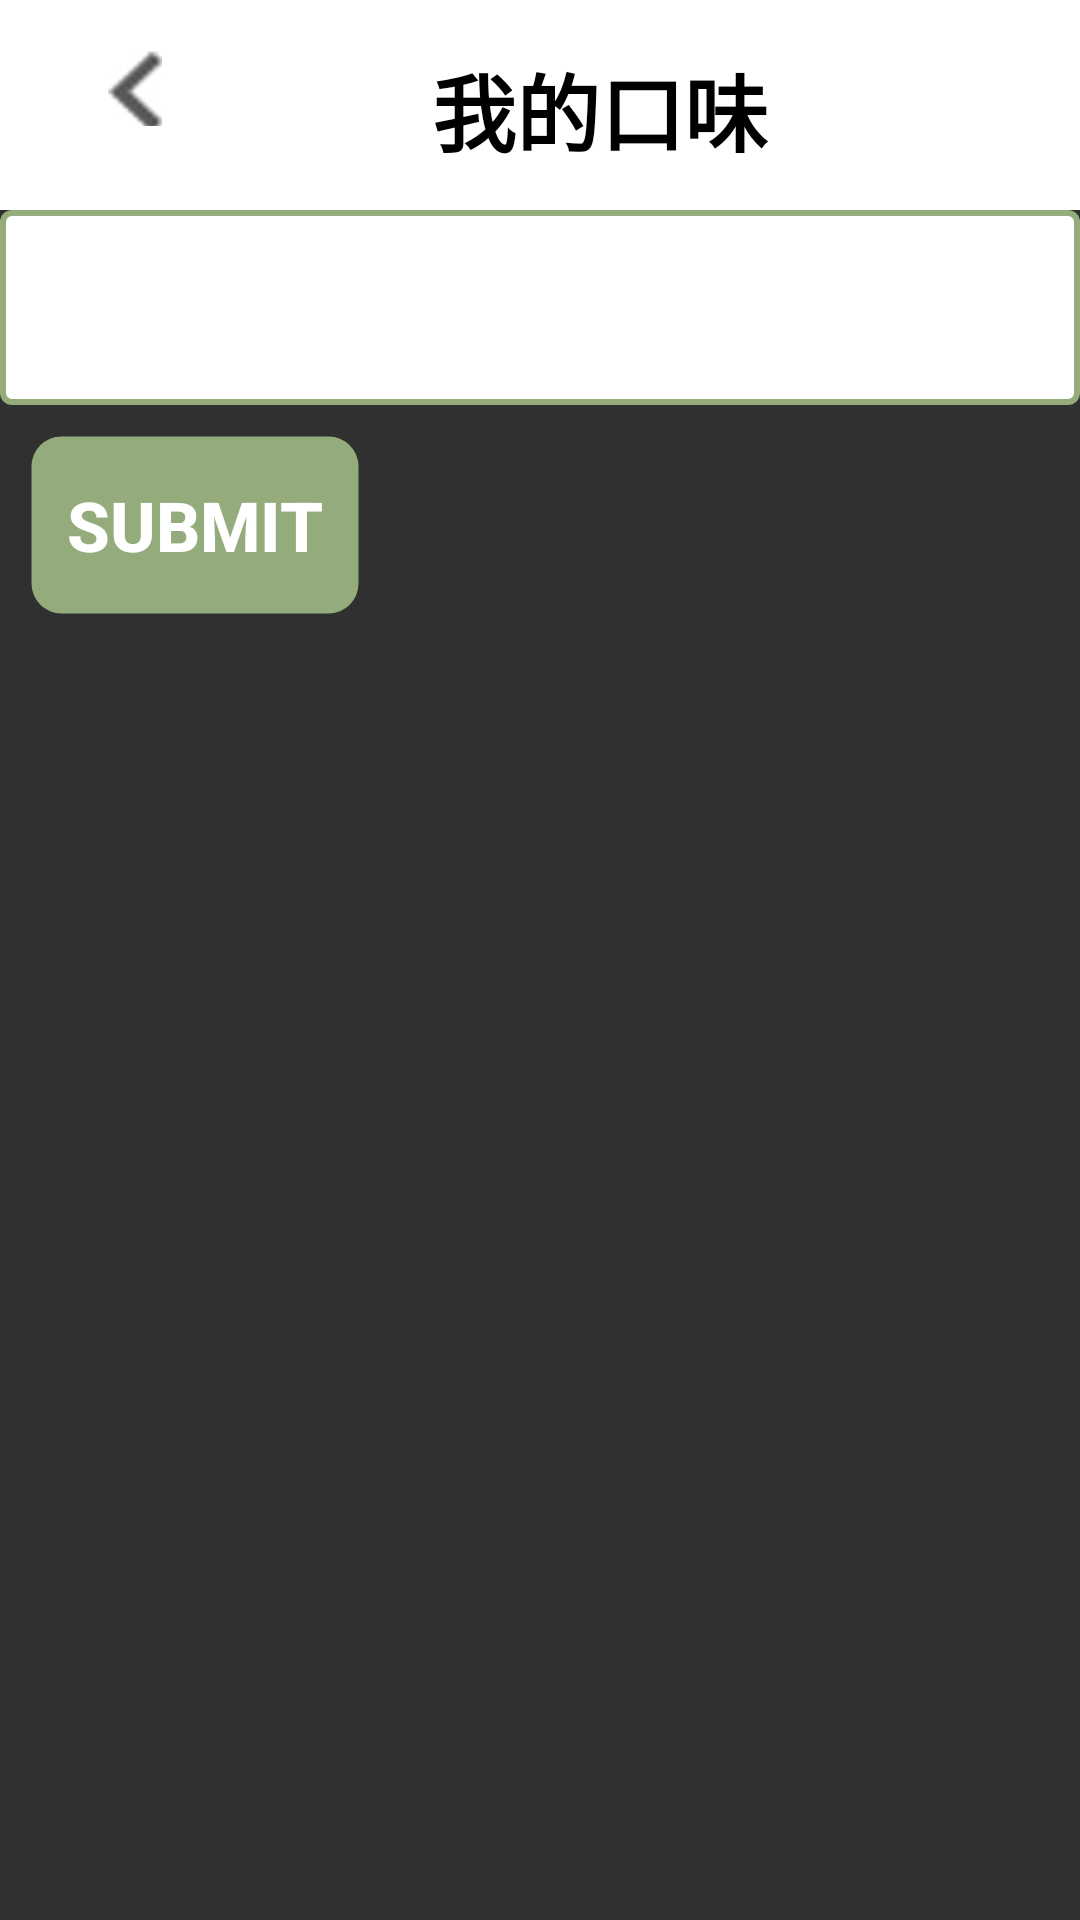

Icon bounding boxes for this 1080px x 1920px phone screenshot, format (x1, y1, x2, y2):
return: (108, 51, 162, 126)
